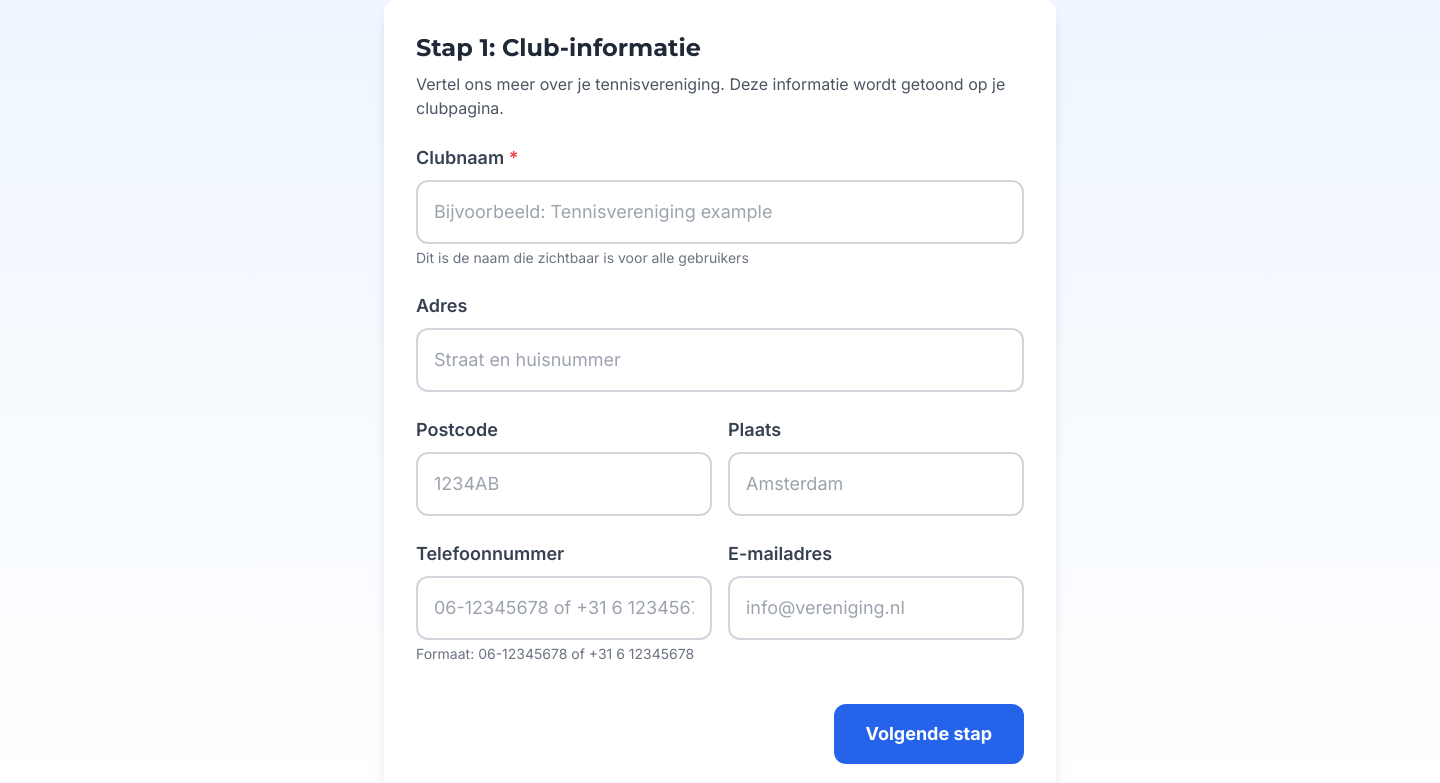
Scenario: ClubStep › Submit › should show generic error on unknown save failure
The width and height of the screenshot is (1440, 783).
Type "Tennis Club" into the field labelled "Clubnaam *" at coordinates (720, 212), box [416, 180, 1024, 244]
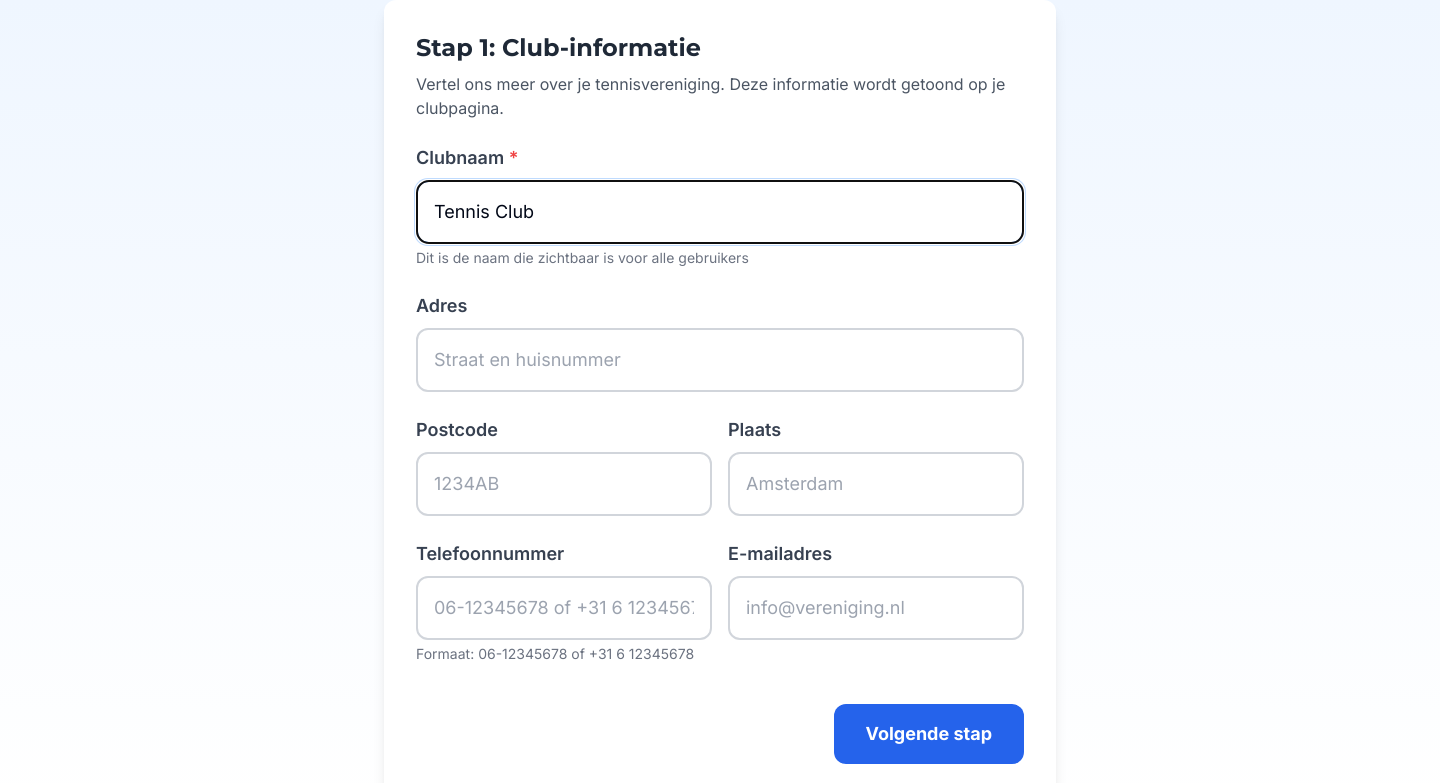
Click the button "Volgende stap" at coordinates (929, 734), box [834, 704, 1024, 764]
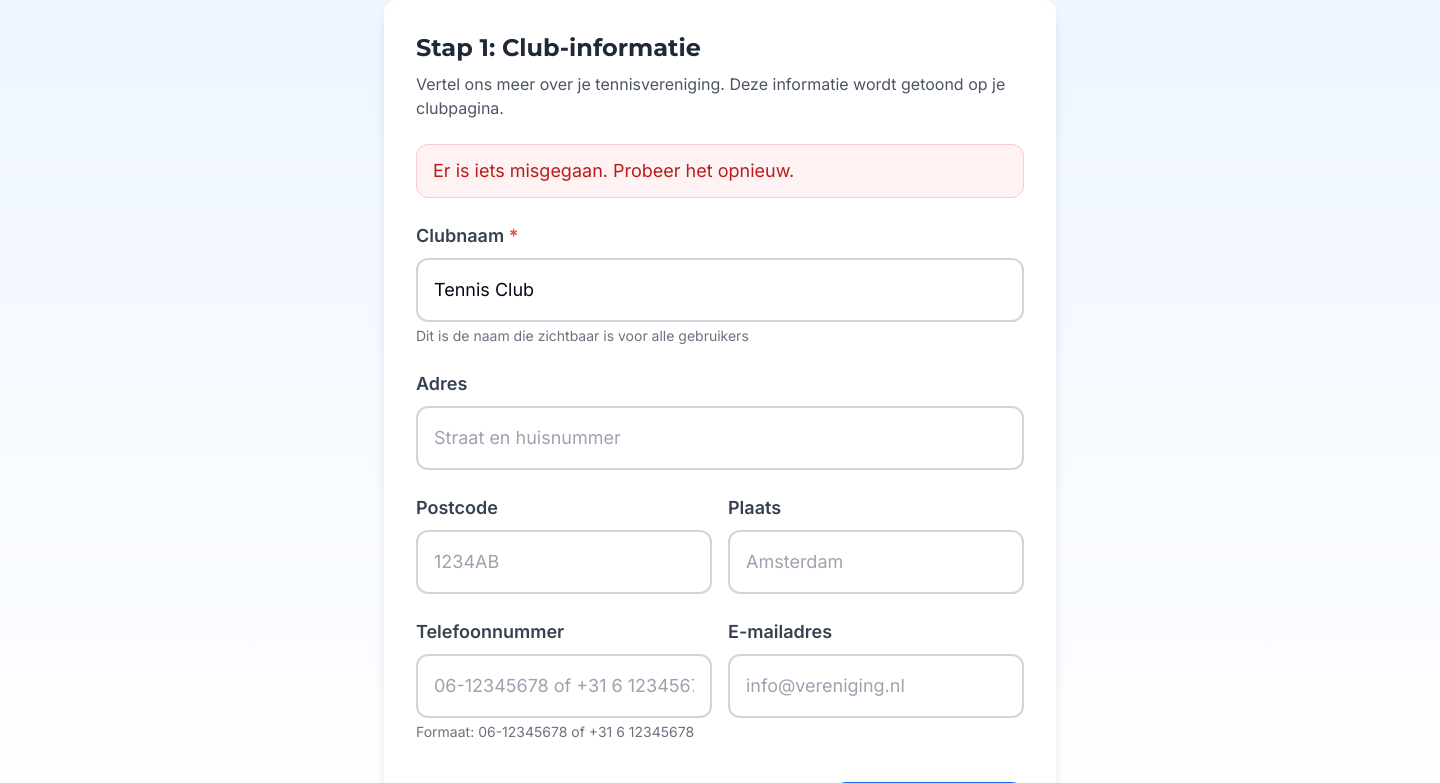
expect the text "Er is iets misgegaan. Probeer het opnieuw." is shown: met, box [416, 144, 1024, 198]
